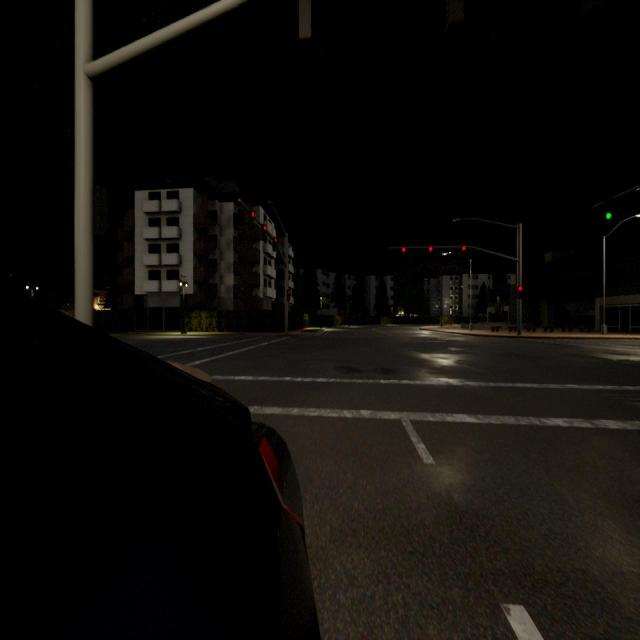Vehicle: (0, 284, 320, 640)
traffic_light: (606, 199, 612, 220), (516, 285, 524, 300), (250, 210, 256, 226), (272, 237, 278, 251), (262, 225, 267, 237), (286, 289, 291, 301), (428, 246, 432, 258), (462, 245, 466, 256), (402, 247, 406, 257)
